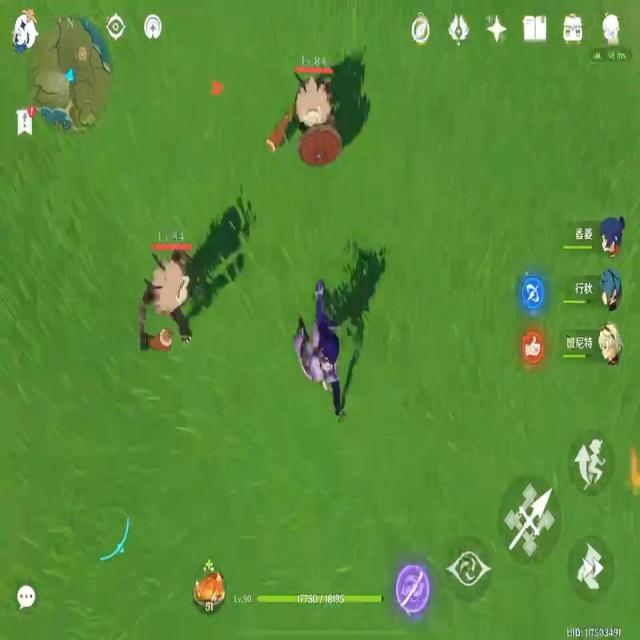genshin-hilichurls: (267, 50, 343, 169), (138, 230, 199, 360)
